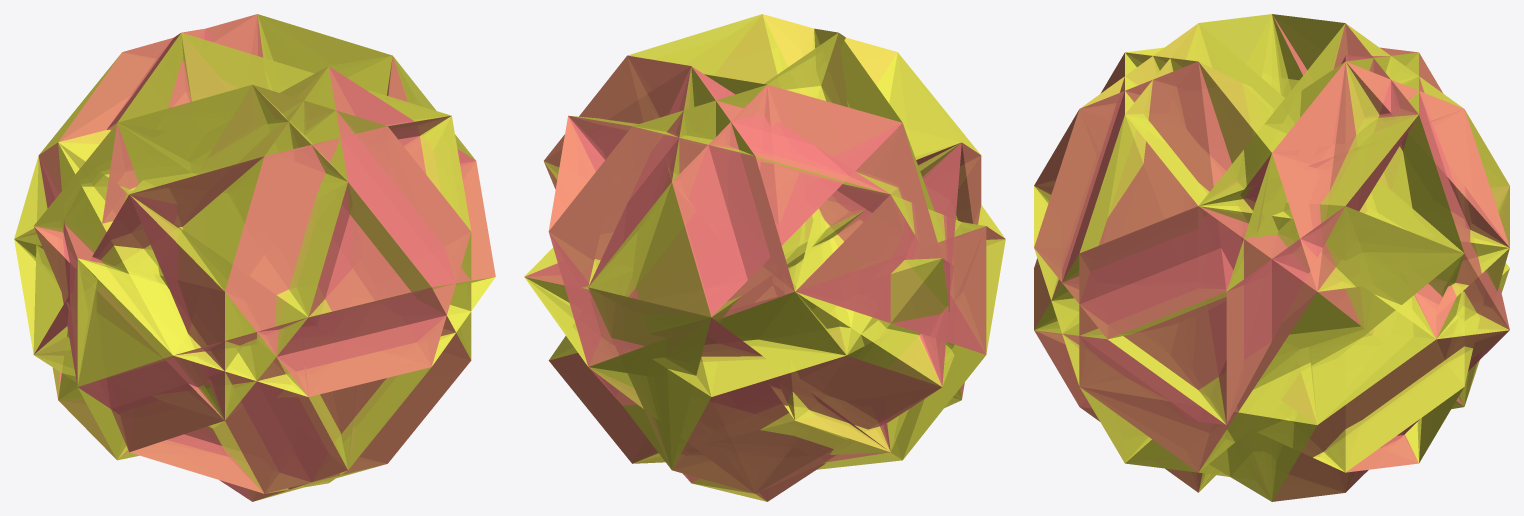
File: SmallDodecicosahedron.obj
3 views of the same model, side by side, from view 1: azimuth 30°, elevation 25°; view 2: azimuth 150°, elevation 25°; view 3: azimuth 270°, elevation 25° (orthographic). The views are drawn at different scales.
Bounding box in the file's own units: 3.24 × 3.24 × 3.24.
